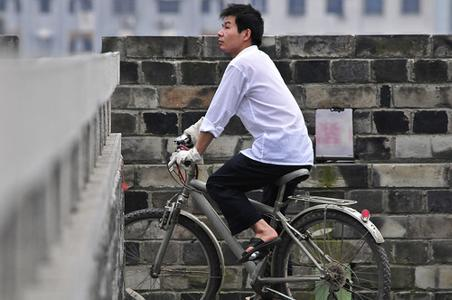person: (170, 5, 316, 300)
